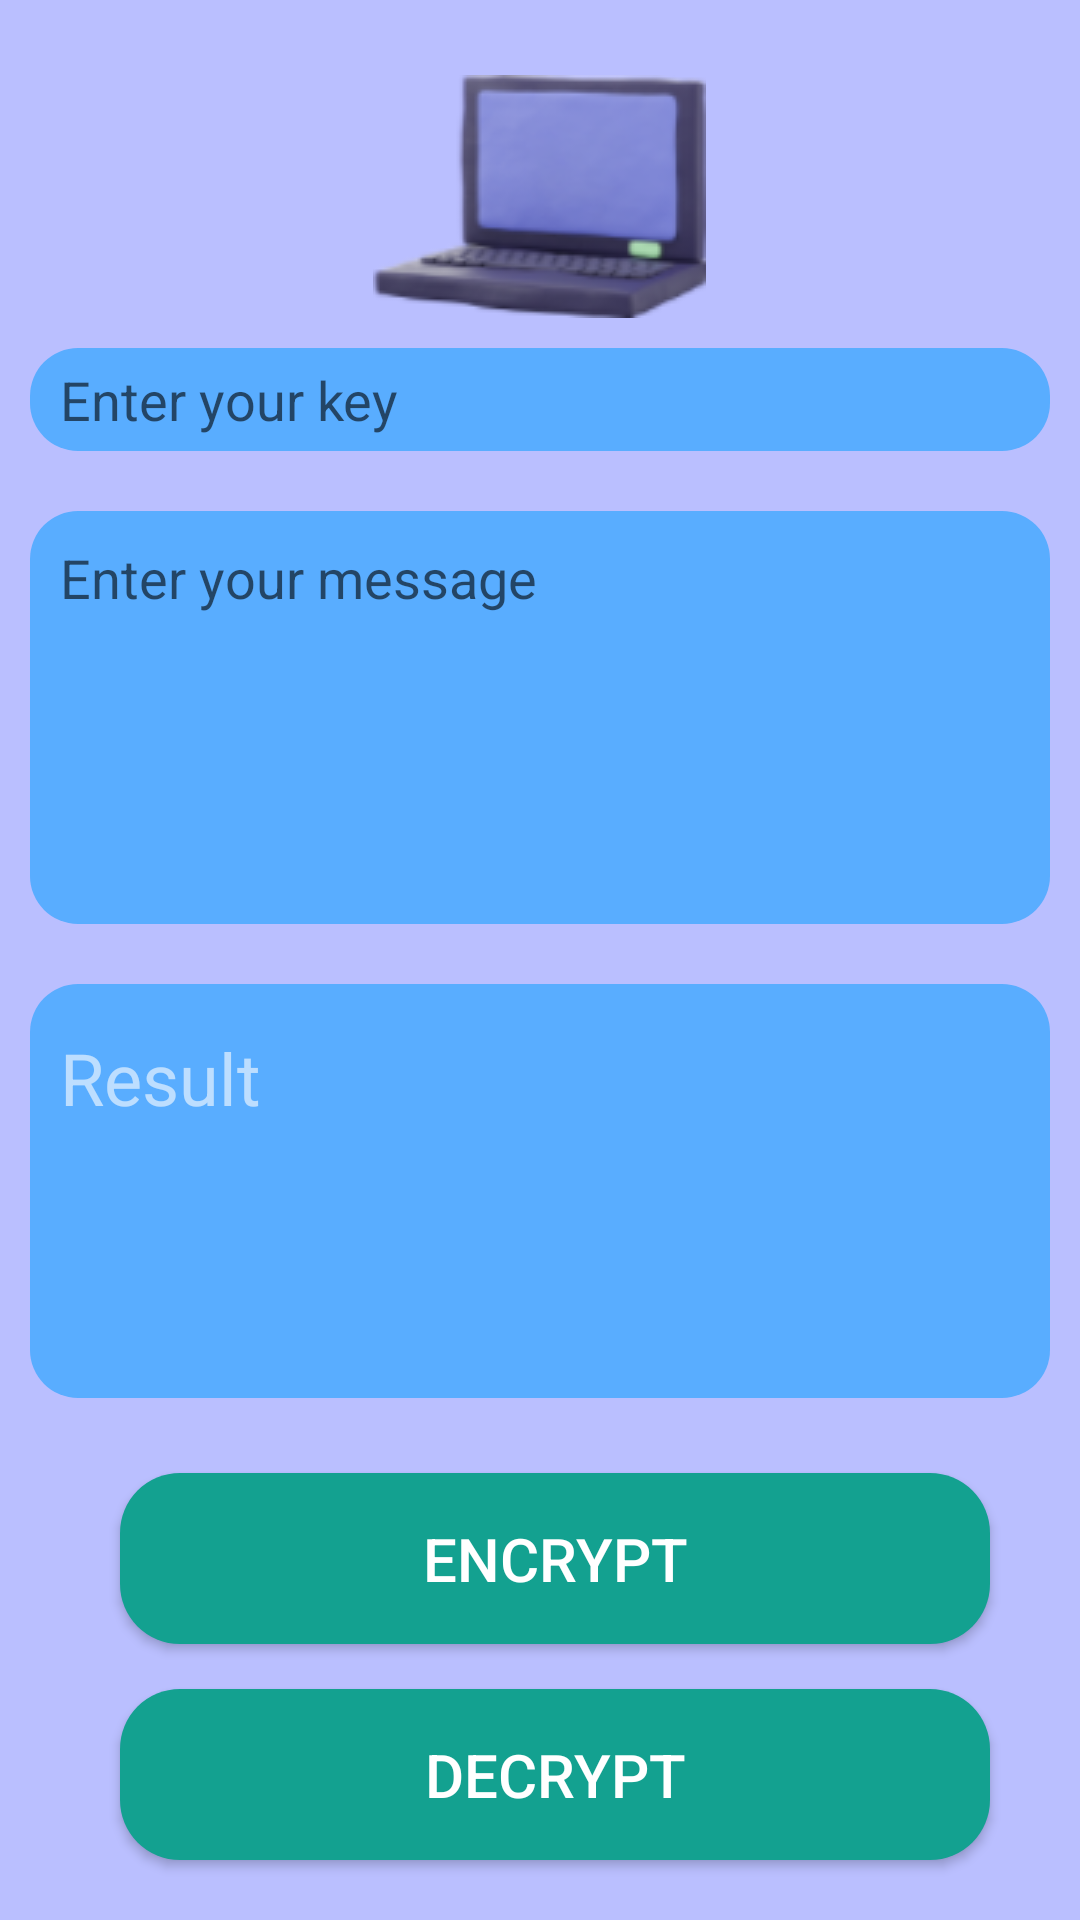

Screen size 1080w x 1920h. Icon name, then its center in pixels as (x,y):
open laptop: (539,196)
